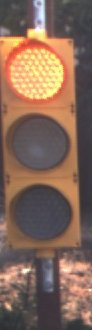Red: (2, 31, 83, 270)
